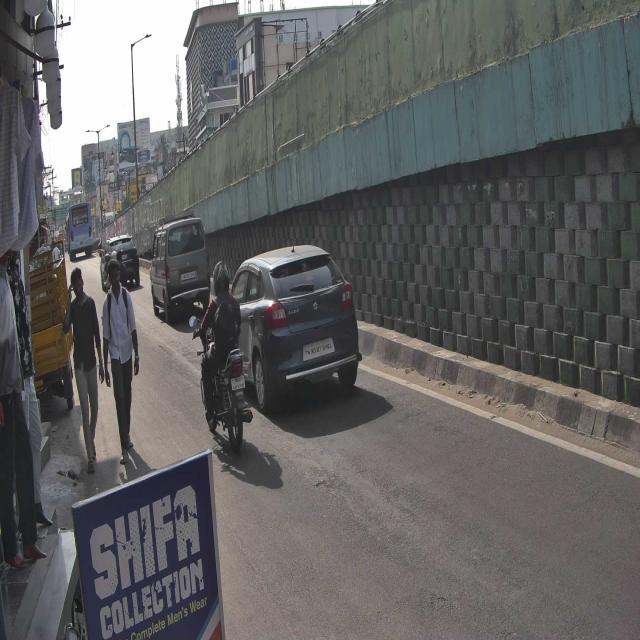single_rider: (189, 255, 255, 452)
